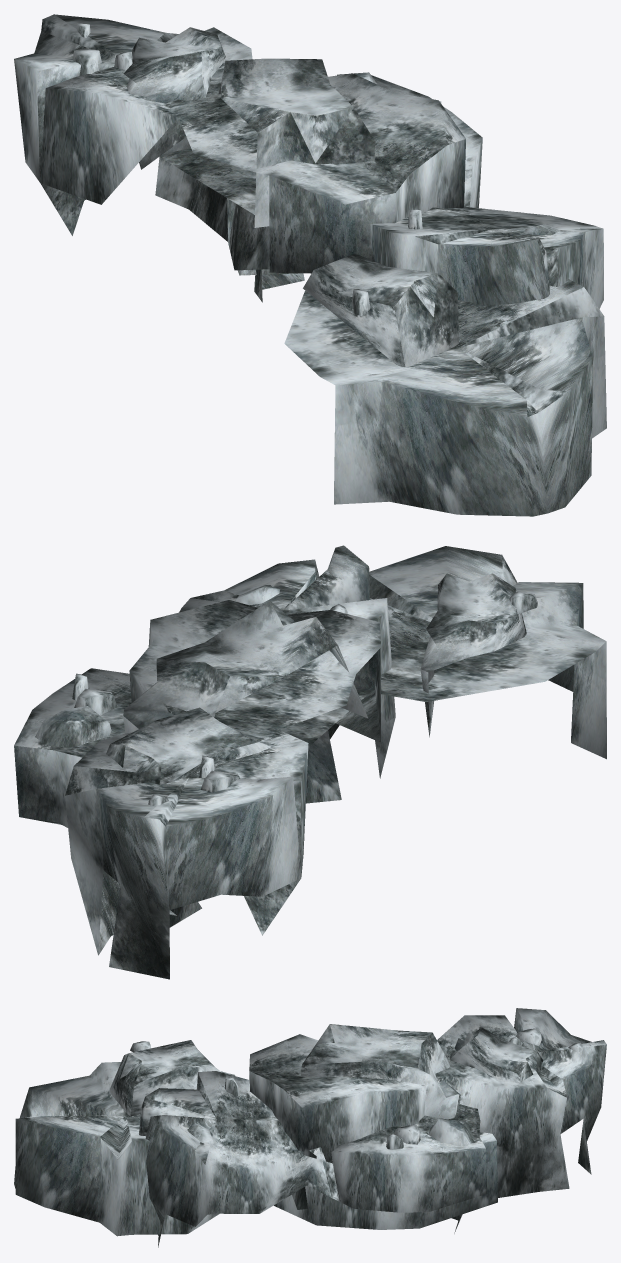
File: S_Rock_White046_A1.FBX
The picture shows the model from 3 angles, top to bottom: view 1: azimuth 30°, elevation 25°; view 2: azimuth 150°, elevation 25°; view 3: azimuth 270°, elevation 25°; orthographic projection. The views are drawn at different scales.
Parts seen in each view (by area): view 1: S_Rock_White046_A1; view 2: S_Rock_White046_A1; view 3: S_Rock_White046_A1.
Boxes of the visible parts, bbox=[...] form: S_Rock_White046_A1: bbox=[14, 14, 606, 516]; S_Rock_White046_A1: bbox=[14, 545, 606, 979]; S_Rock_White046_A1: bbox=[14, 1008, 606, 1247].
Size of the model in its own units: 539 by 388 by 1176.
